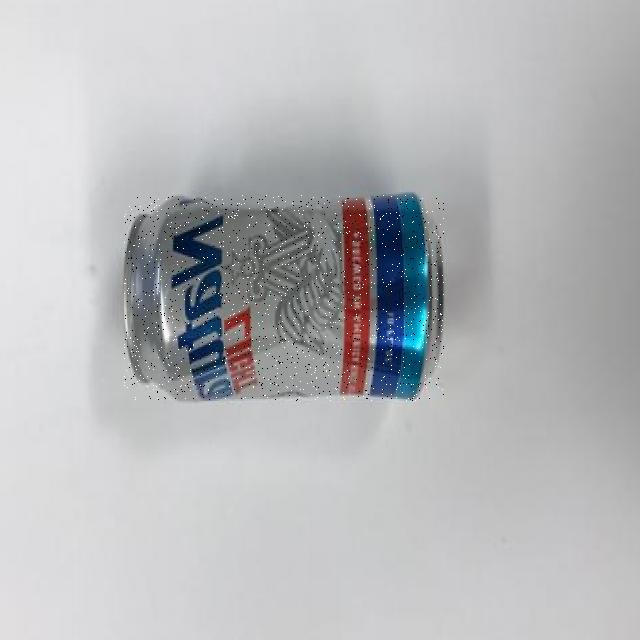metal: (124, 195, 444, 401)
